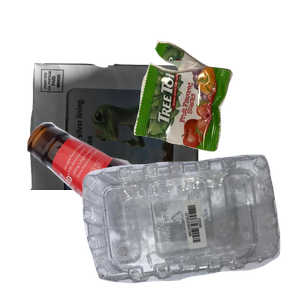glass: (25, 120, 265, 300)
paper: (27, 60, 223, 240)
plastic: (80, 152, 300, 300)
trash: (131, 38, 300, 182)
